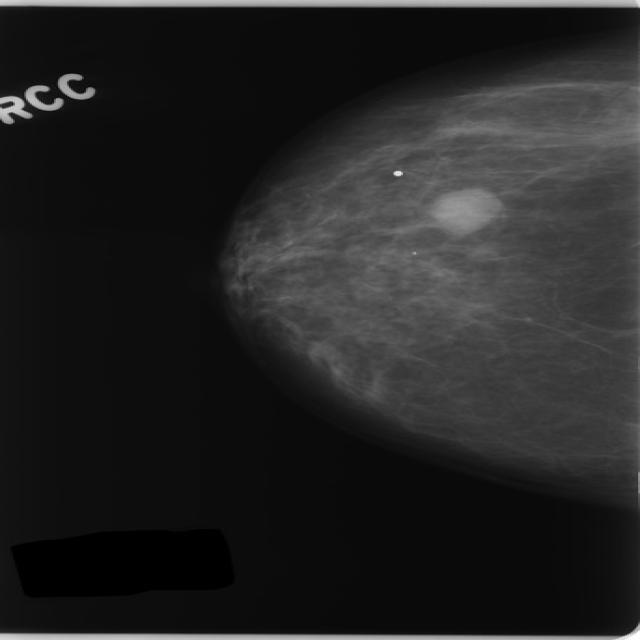tumour: (425, 186, 504, 234)
